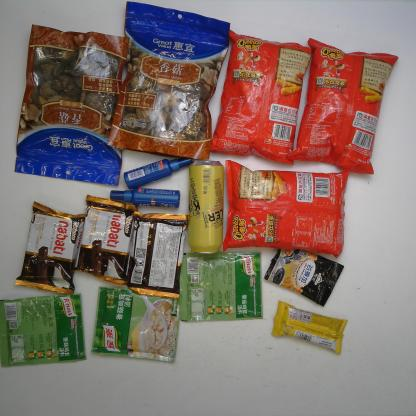Alcohol: (186, 159, 226, 255)
Chocolate: (270, 300, 350, 355)
Dessert: (14, 200, 86, 295), (76, 195, 138, 287), (127, 211, 189, 300)
Dried Food: (106, 1, 231, 161), (13, 22, 130, 188)
Instant Drink: (263, 246, 345, 308)
Personal Hygiene: (123, 156, 193, 190), (109, 189, 182, 209)
Puffed Food: (287, 37, 399, 175), (209, 29, 314, 164), (221, 157, 350, 259)
Seasoner: (90, 286, 179, 362), (0, 292, 88, 366), (176, 251, 264, 322)
